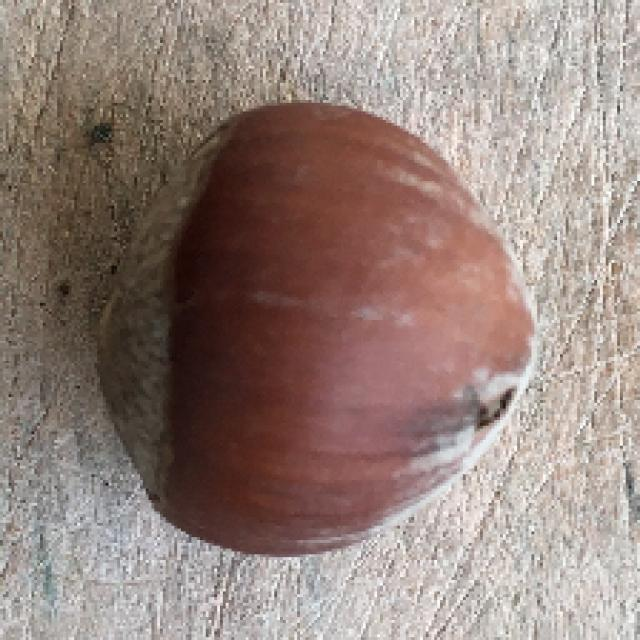damagedHazelnut: (86, 100, 542, 584)
